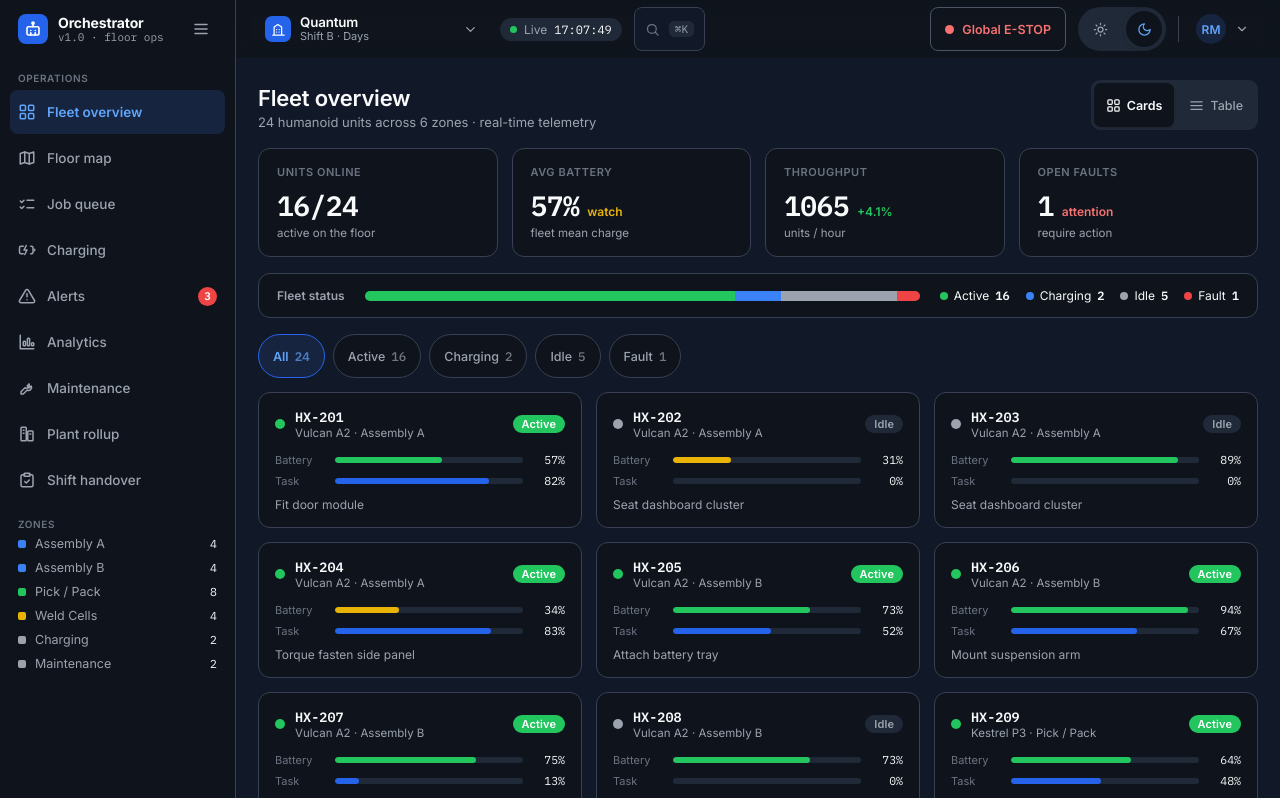
Test case: alerts › Ack marks the alert acknowledged and decrements the badge
The width and height of the screenshot is (1280, 798).
Click the button "Alerts 3" at (118, 296), box [10,274,225,318]
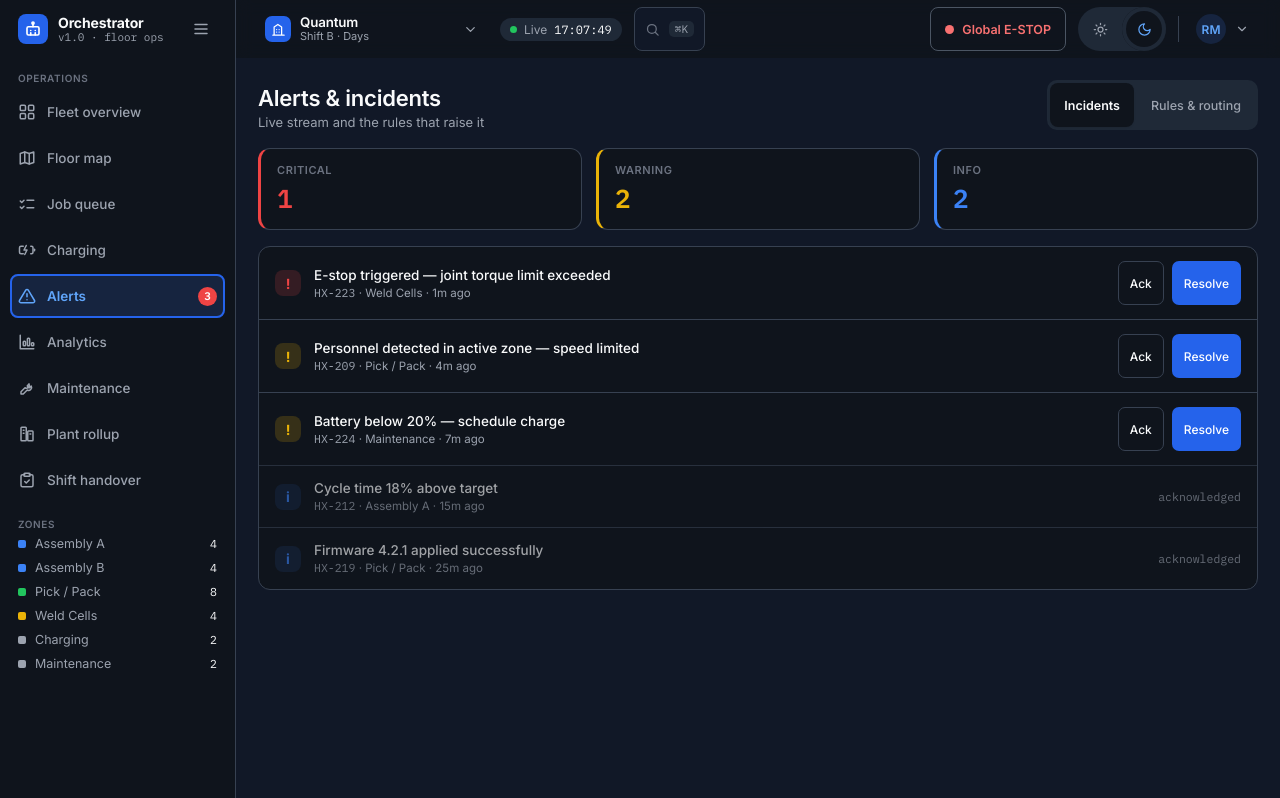
Click the button "Ack" in the row of "1m ago" at (1141, 283), box [1118,261,1164,305]
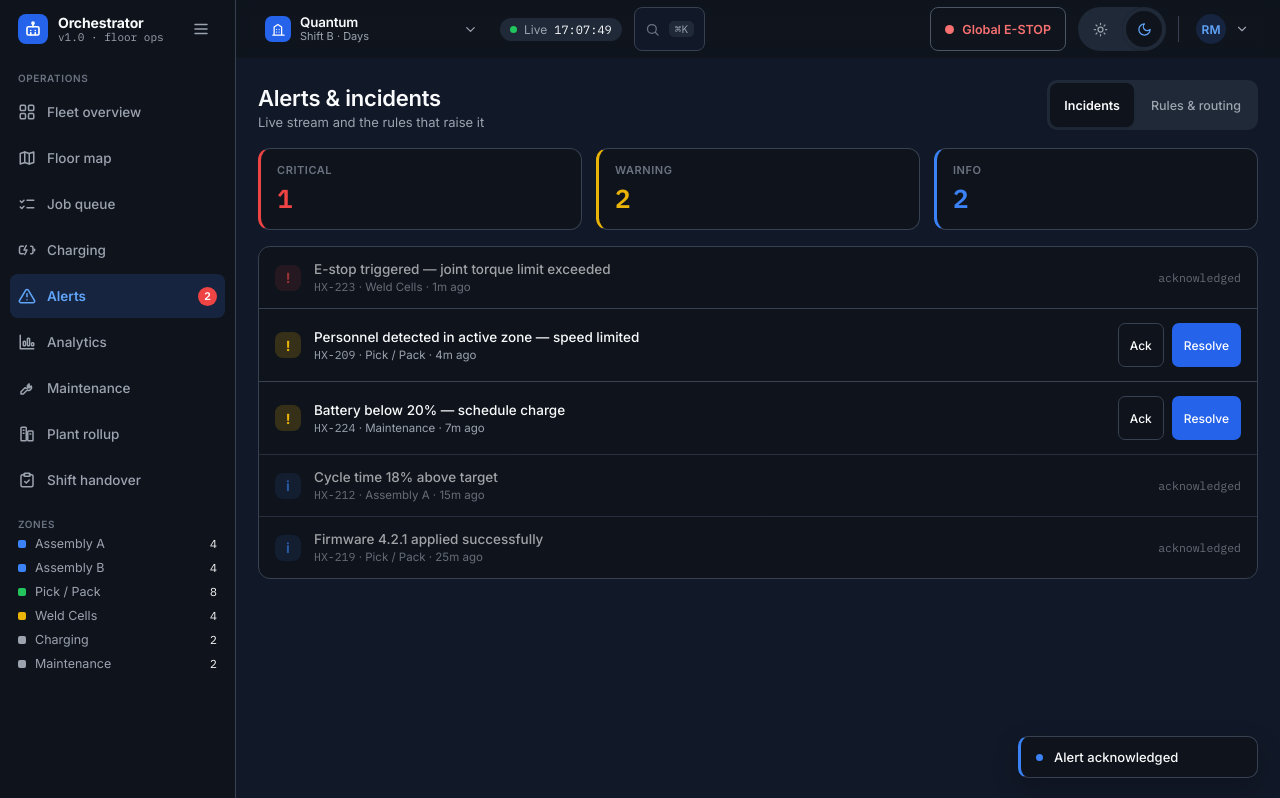
Now the number of buttons "Ack" is 2, box [1118,323,1164,367]; [1118,396,1164,440]
Now the text "acknowledged" is shown 3 times, box [1158,270,1241,285]; [1158,478,1241,493]; [1158,540,1241,555]
Now the message reads "Alert acknowledged", box [1054,749,1178,765]
